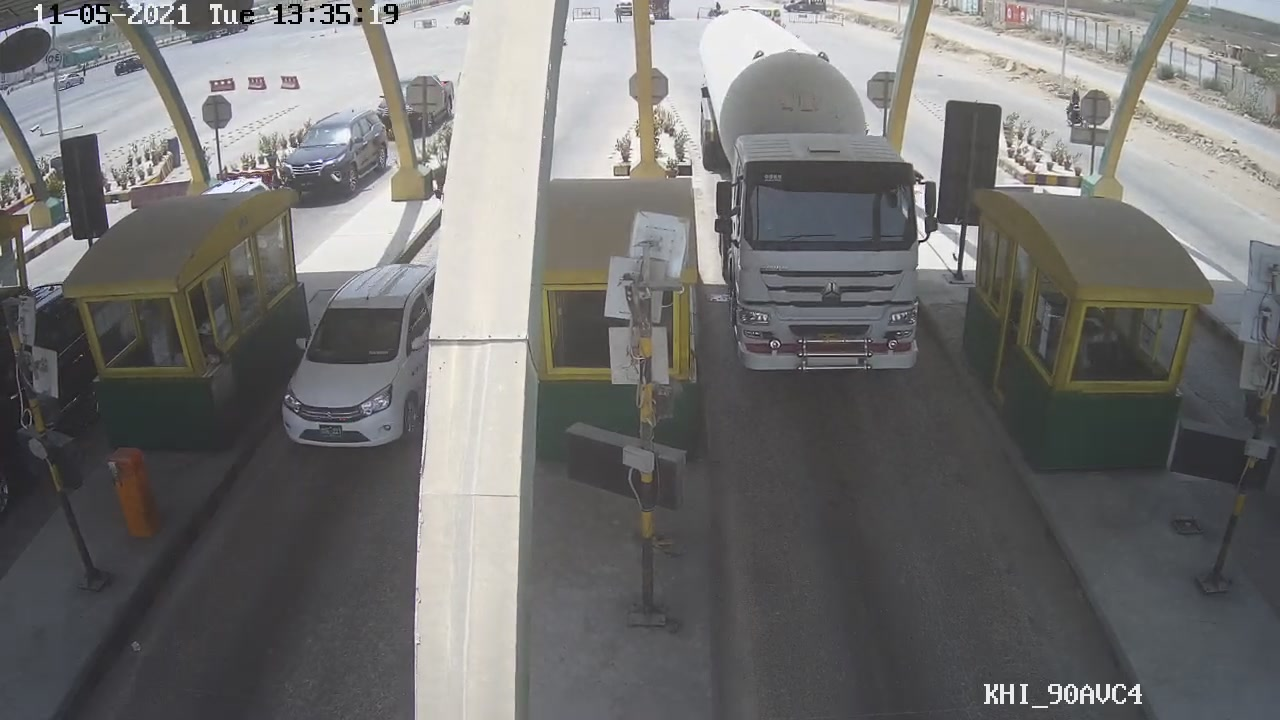F6: (695, 4, 932, 379)
